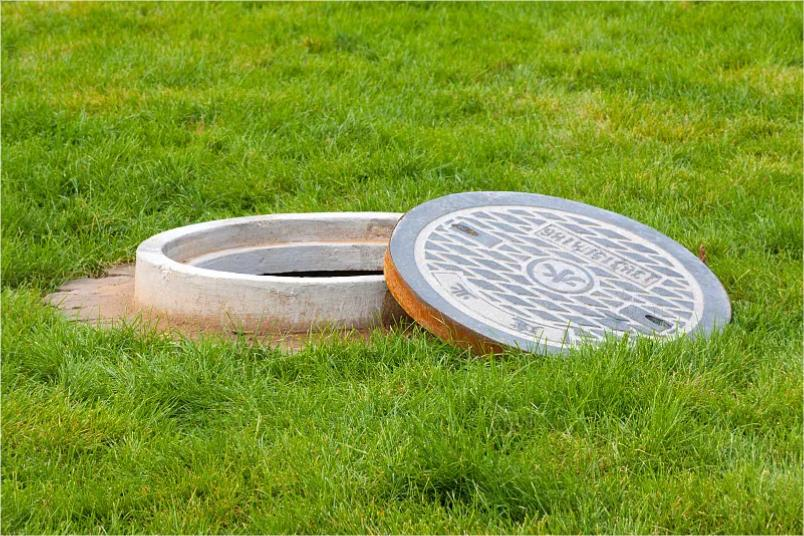wellcover: (131, 164, 732, 392)
